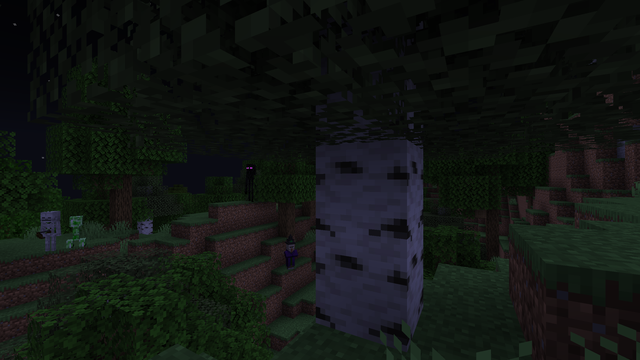creepers: (67, 214, 85, 248)
endermens: (245, 163, 256, 201)
sorcieres: (284, 241, 295, 270)
squelettes: (40, 210, 60, 252)
